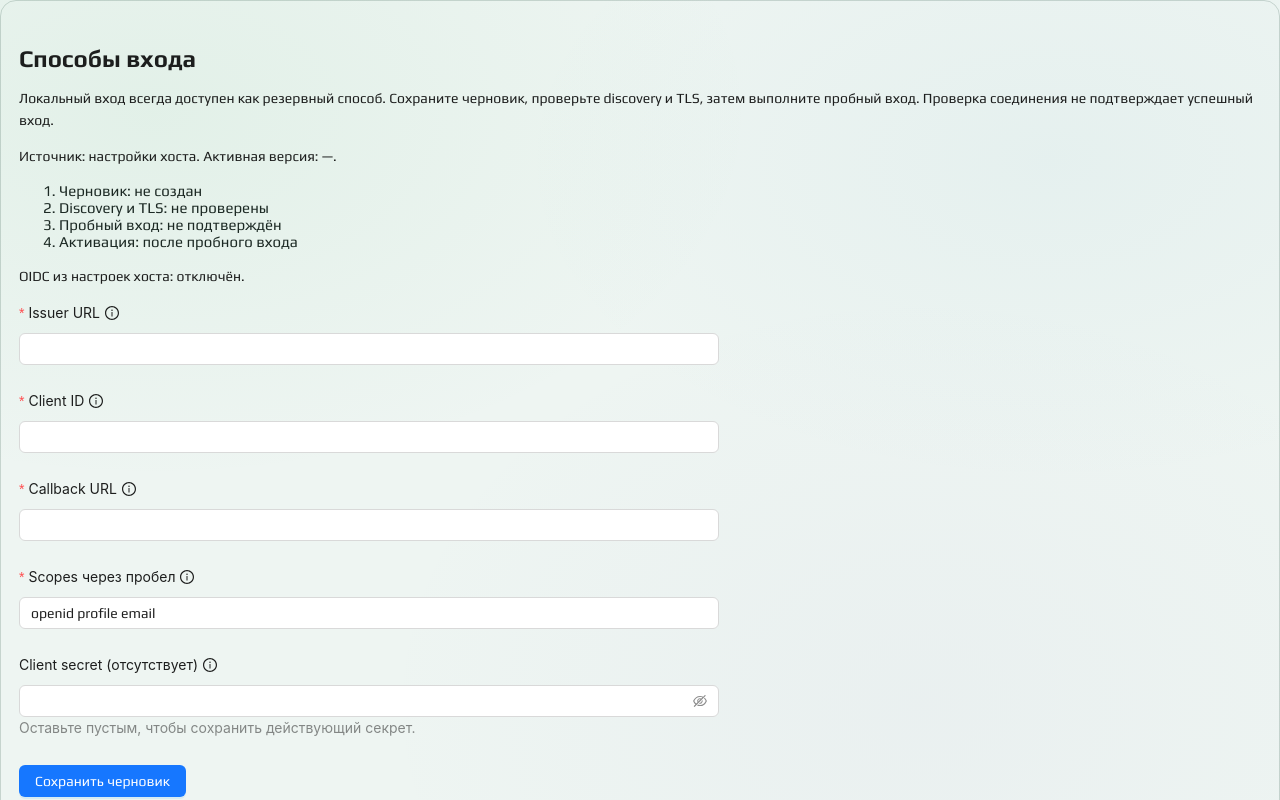
Scenario: keeps mutations blocked when the state refresh returns malformed data
Check: the text "Источник: настройки хоста. Активная версия: —." is shown, box [19,148,337,164]
Type "https://id.example.test" into the field labelled "Issuer URL" at (369, 349), box [19,333,719,365]
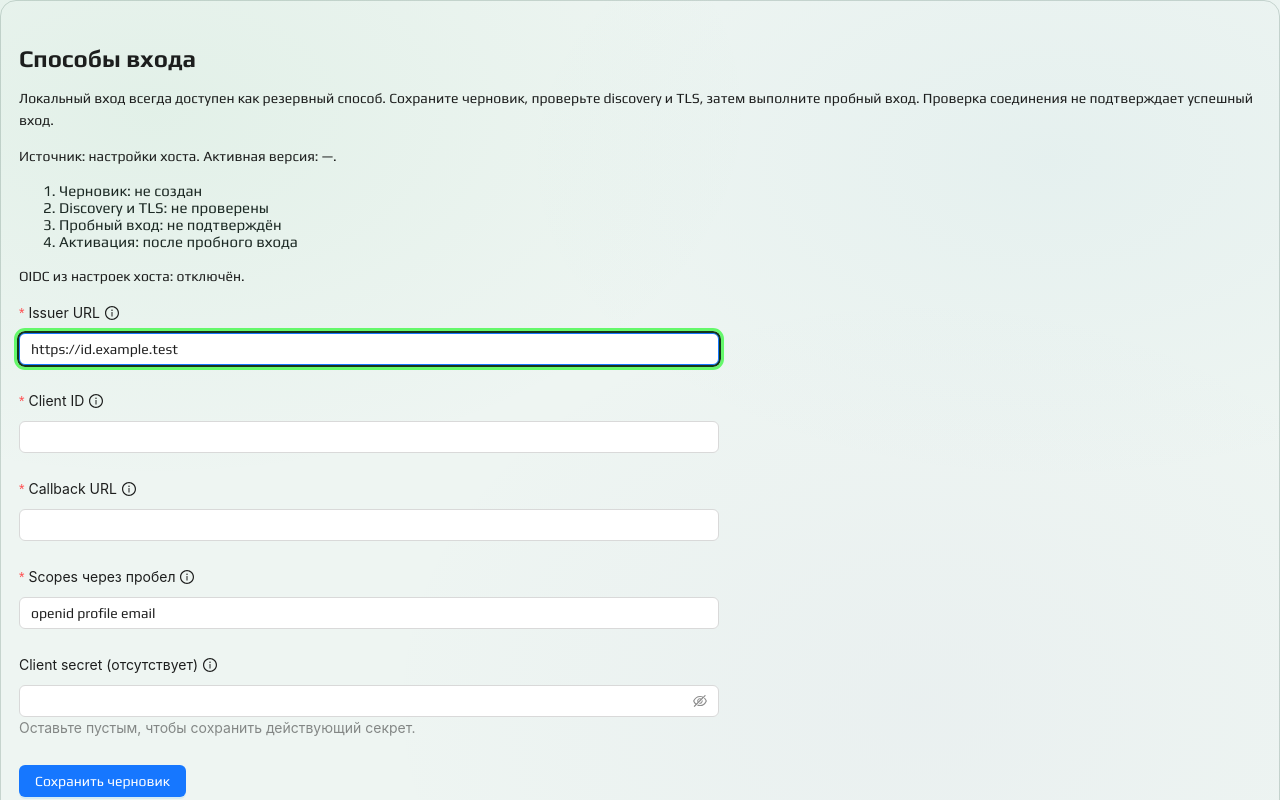
Type "client" into the field labelled "Client ID" at (369, 437), box [19,421,719,453]
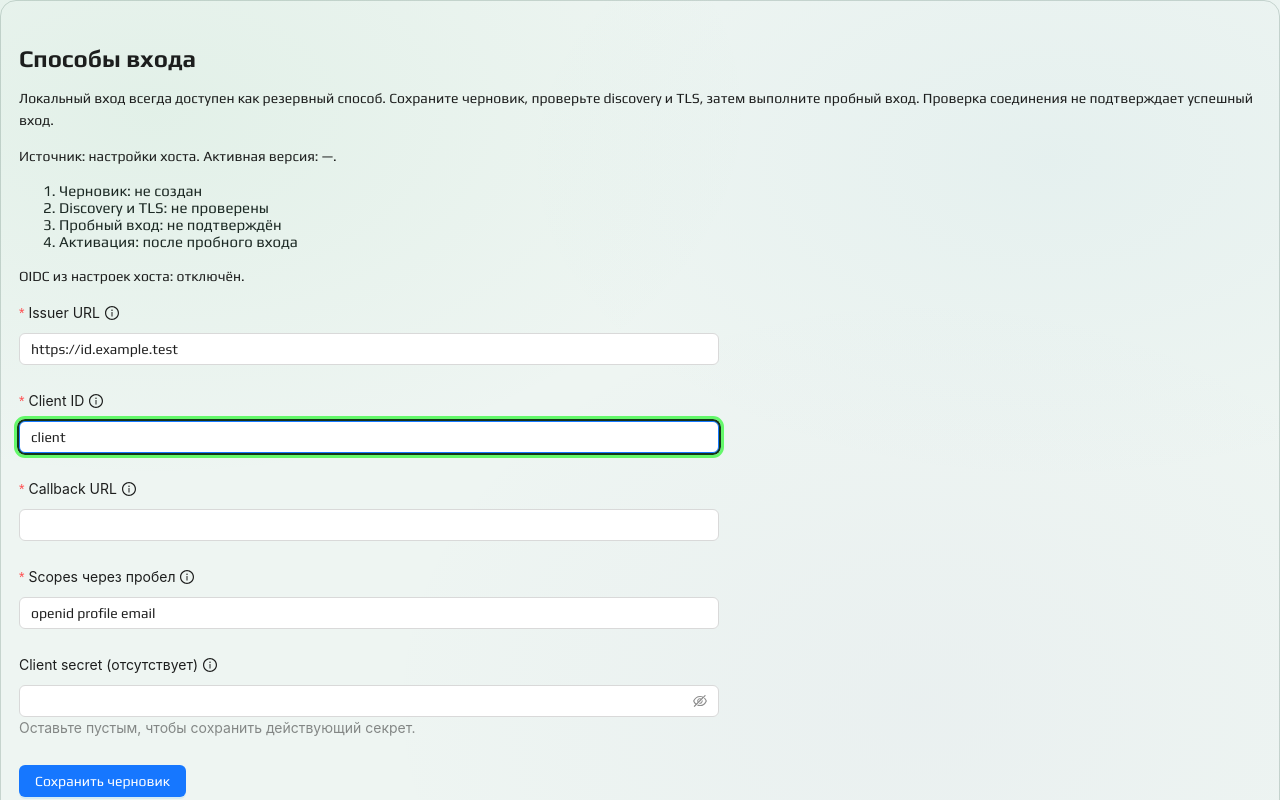
Type "http://localhost:8080/api/v1/auth/oidc/callback" into the field labelled "Callback URL" at (369, 525), box [19,509,719,541]
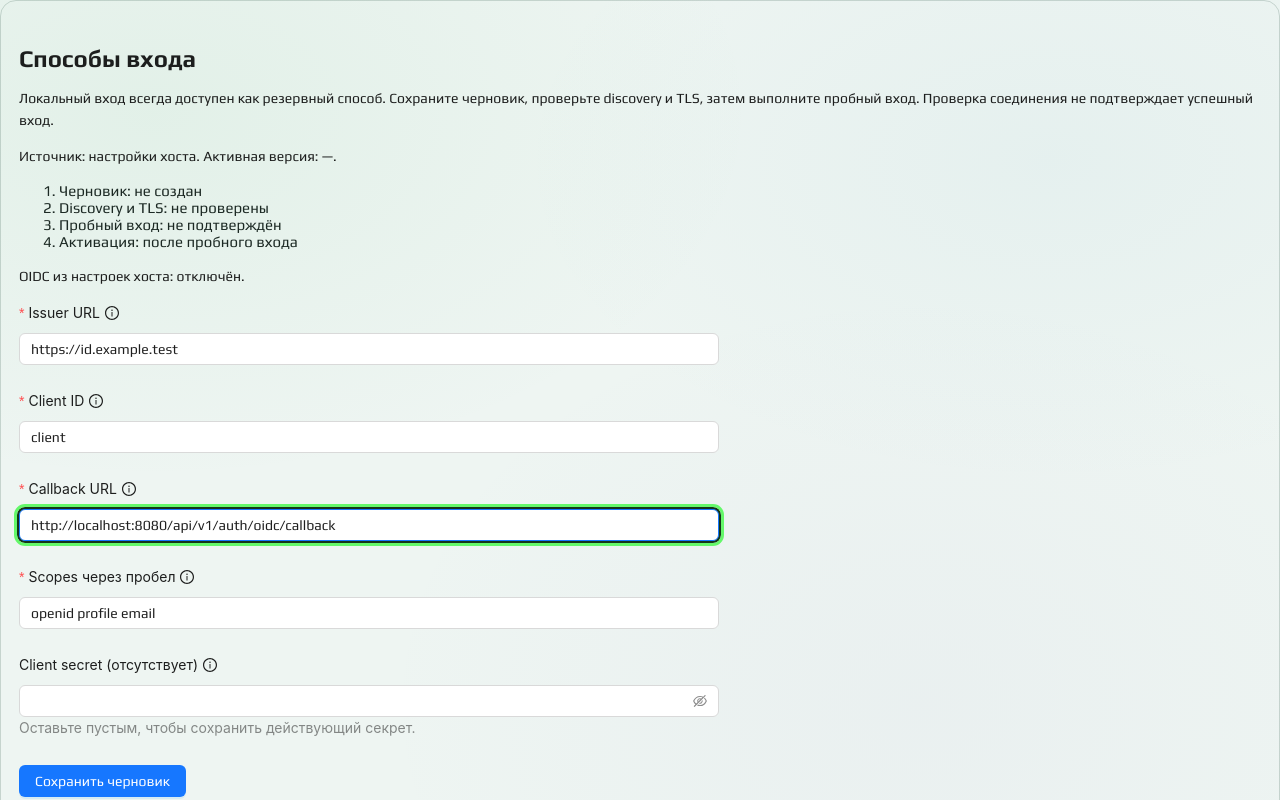
Click the button "Сохранить черновик" at (102, 781), box [19,765,186,797]
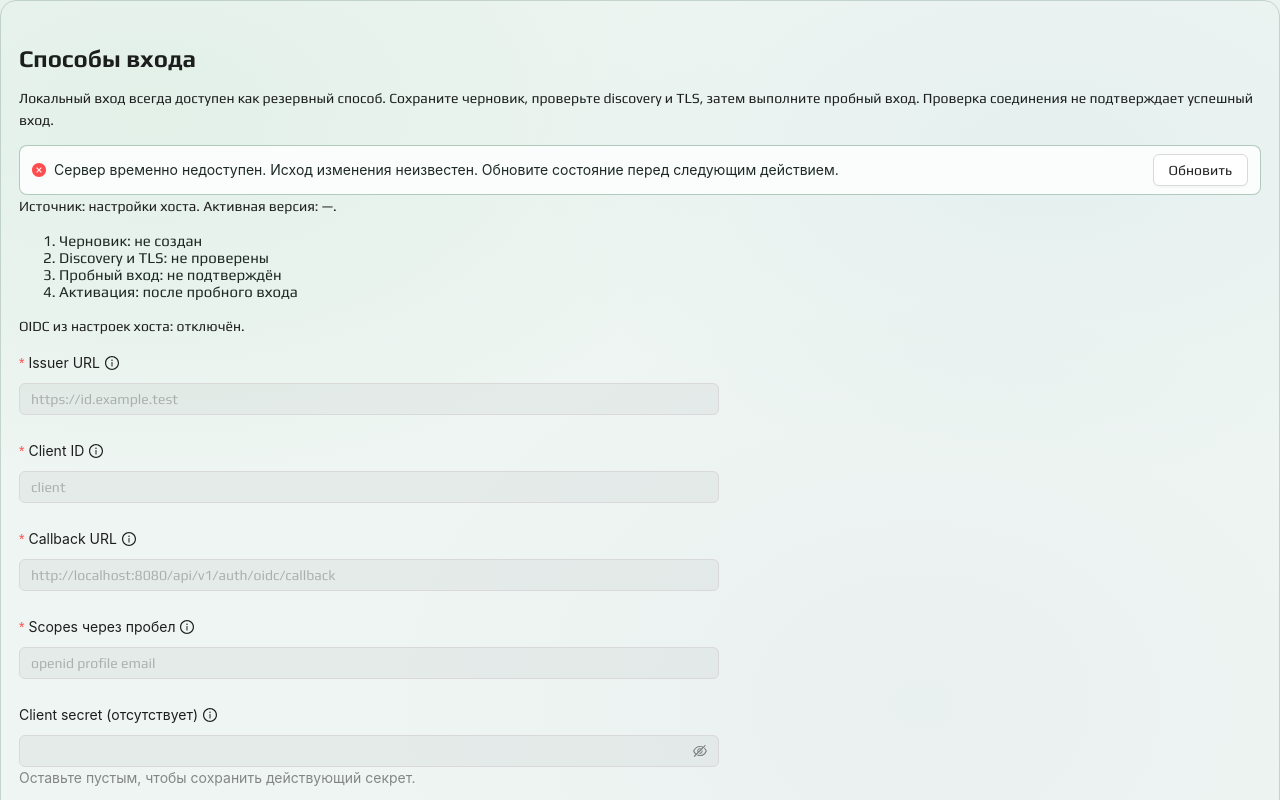
Check: the text "Исход изменения неизвестен" is shown, box [54,161,839,178]
Click the button "Обновить" at (1200, 170), box [1153,154,1248,186]
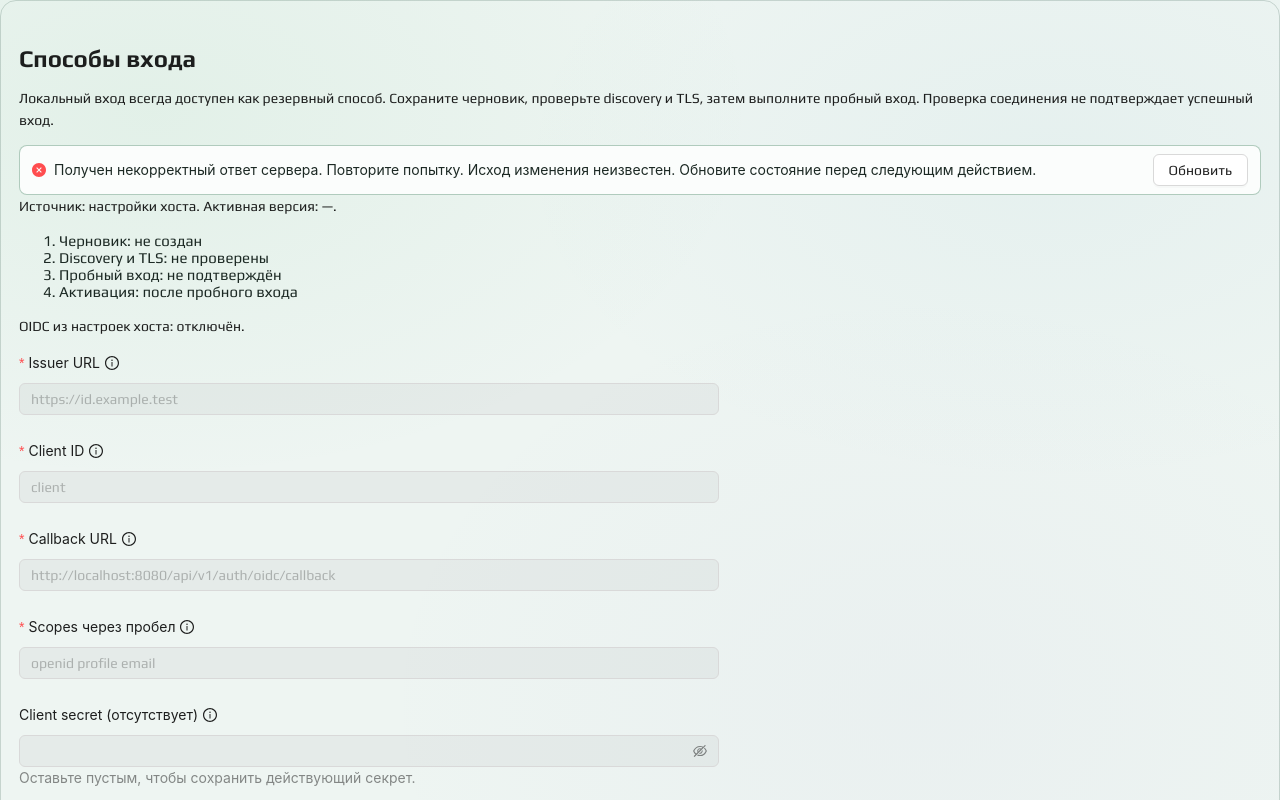
Check: the text "Исход изменения неизвестен" is shown, box [54,161,1036,178]
Click the button "Обновить" at (1200, 170), box [1153,154,1248,186]
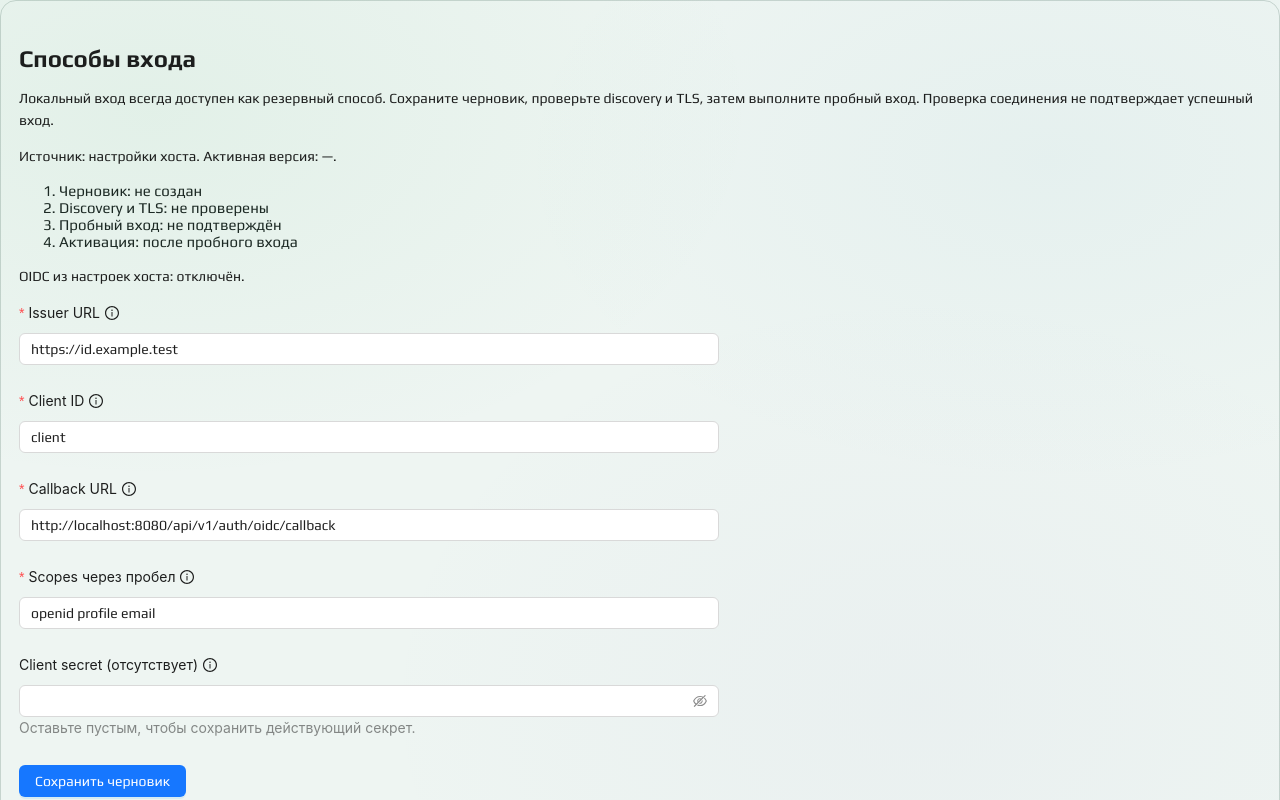
Check: the button "Сохранить черновик" is enabled, box [19,765,186,797]
